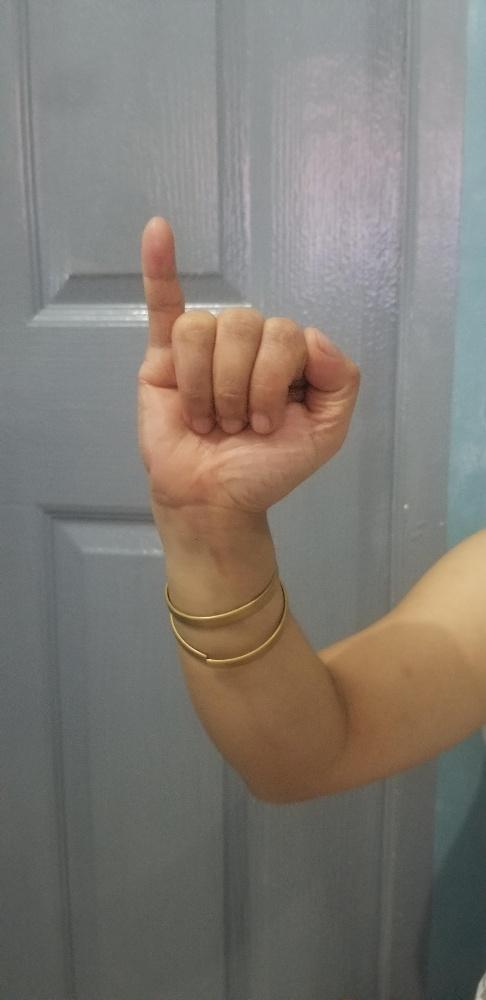i: (136, 213, 362, 509)
